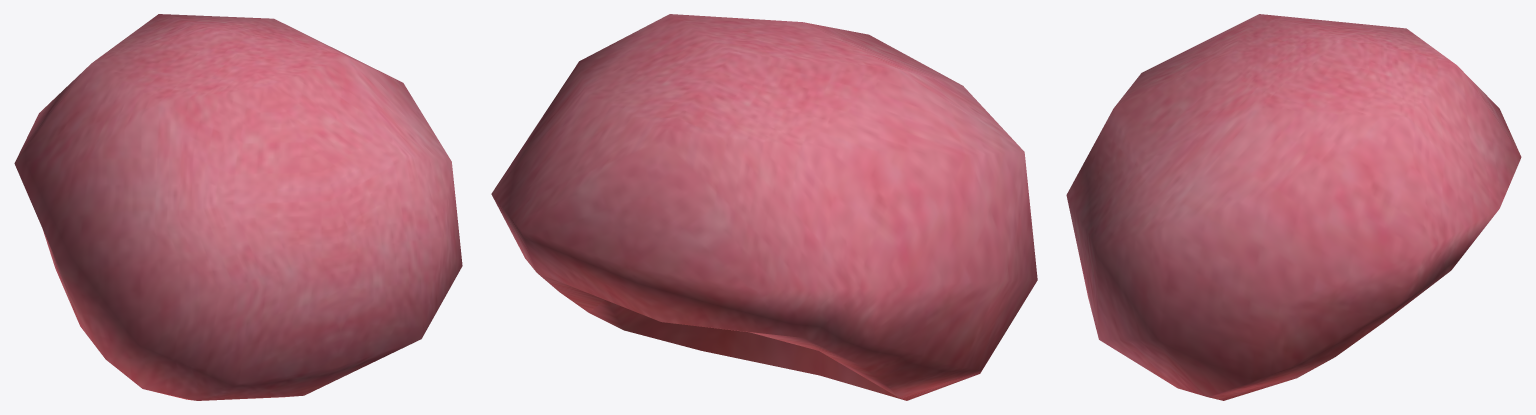
The model's file is afroC.glb.
3 renders of one model, left to right at view 1: azimuth 30°, elevation 25°; view 2: azimuth 150°, elevation 25°; view 3: azimuth 270°, elevation 25°, orthographic. The views are drawn at different scales.
Visible parts, largest first — view 1: afroC; view 2: afroC; view 3: afroC.
Part boxes in pixels (box(x1,y1,x2,y2)): afroC: box(14, 14, 462, 400); afroC: box(491, 14, 1037, 400); afroC: box(1066, 14, 1521, 400).
Size of the model in its own units: 0.4199 by 0.338 by 0.426.
Materials: 1 (1 with a texture image).
